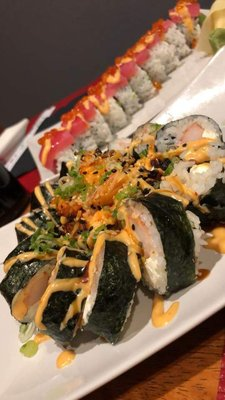sandwich: (0, 20, 224, 384), (1, 110, 224, 340), (30, 0, 208, 174)
